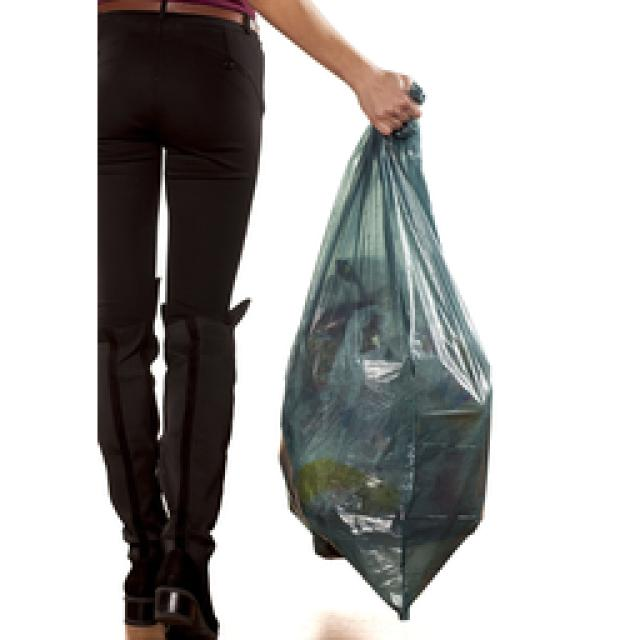plastic: (280, 120, 490, 618)
